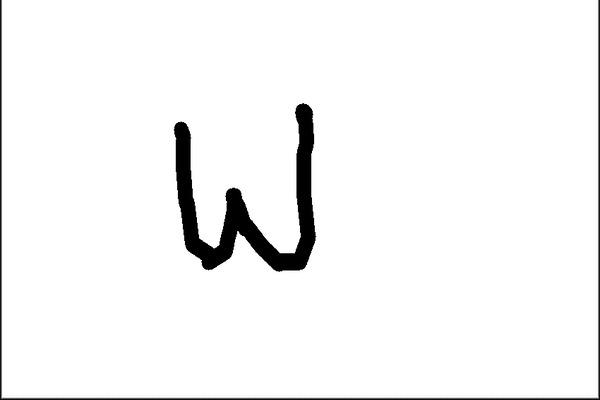w: (143, 94, 357, 294)
